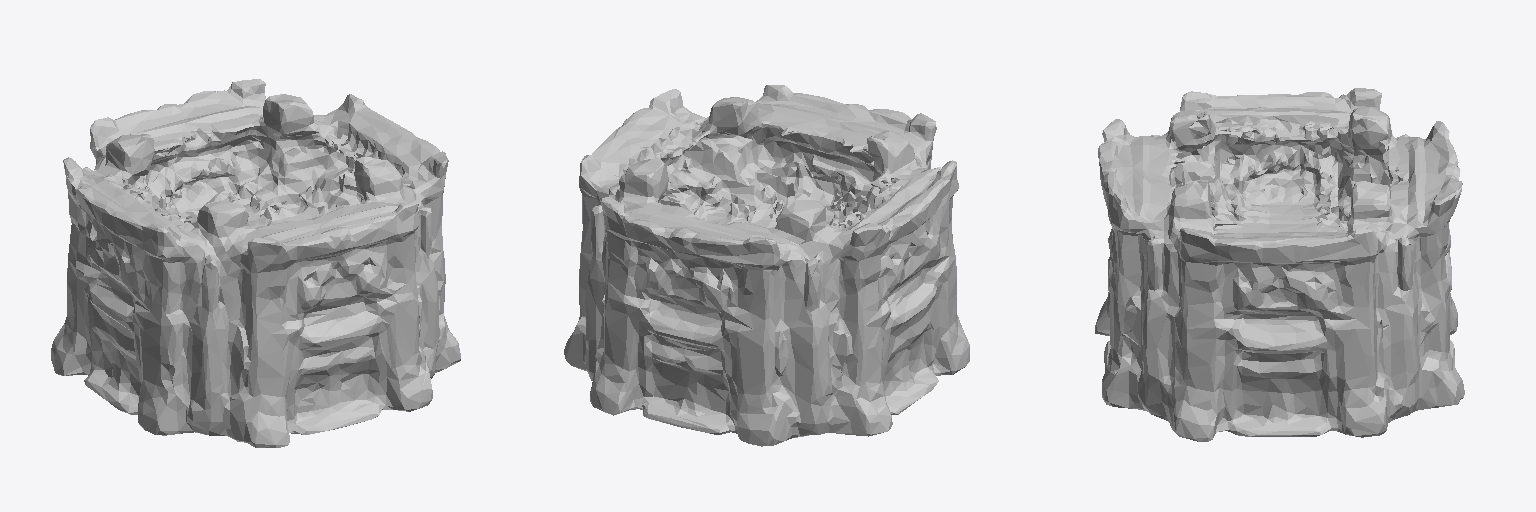
Rendered from a626581a4ef1_a_large_isolated_dw.obj.
The picture shows the model from 3 angles: view 1: azimuth 30°, elevation 25°; view 2: azimuth 150°, elevation 25°; view 3: azimuth 270°, elevation 25°; orthographic projection.
Visible parts, largest first — view 1: mesh; view 2: mesh; view 3: mesh.
Part boxes in pixels (x1,y1,x2,y2): mesh: (51, 79, 460, 447); mesh: (564, 85, 969, 446); mesh: (1095, 88, 1464, 441).
Bounding box in the file's own units: 0.9995 × 0.6459 × 0.997.